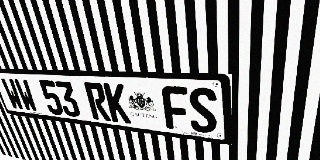3: (54, 81, 81, 118)
5: (38, 80, 65, 116)
F: (161, 86, 190, 131)
K: (103, 83, 131, 124)
R: (83, 82, 111, 121)
S: (188, 87, 217, 134)
W: (13, 79, 39, 113), (0, 78, 25, 111)
